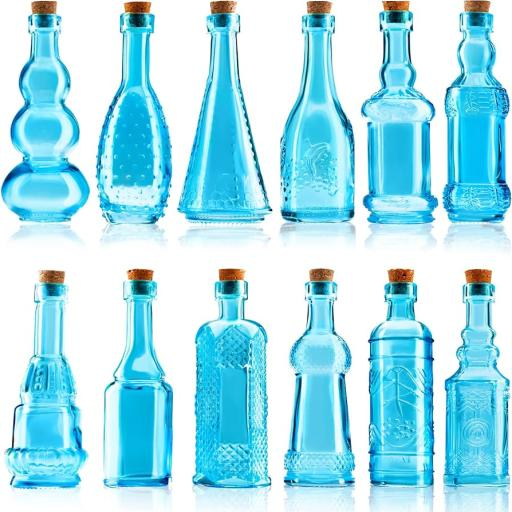blue-bottle: (179, 0, 271, 221), (2, 0, 89, 221), (5, 271, 87, 488), (194, 269, 271, 488), (97, 2, 172, 224), (281, 0, 353, 222), (363, 10, 437, 222), (444, 0, 512, 227), (285, 269, 355, 487), (104, 269, 172, 487), (444, 269, 510, 486), (369, 269, 434, 487)
